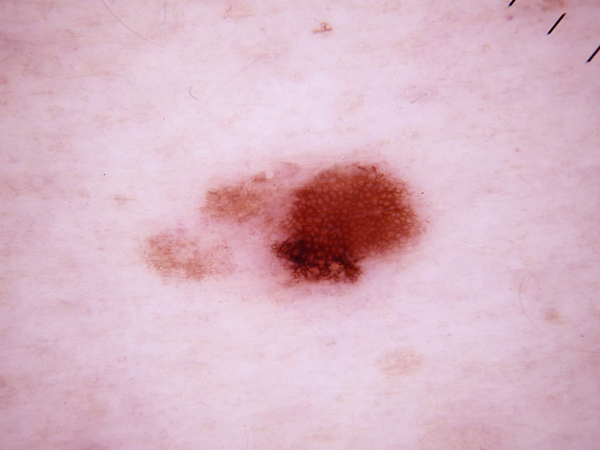Color changes: (320, 233, 352, 260)
